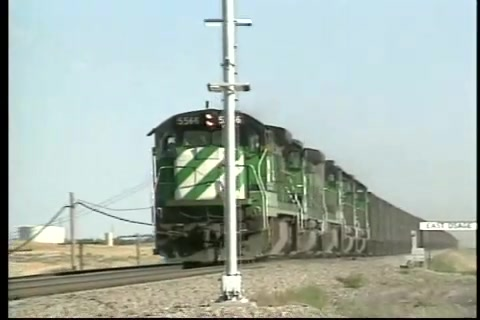train: (147, 101, 460, 266)
